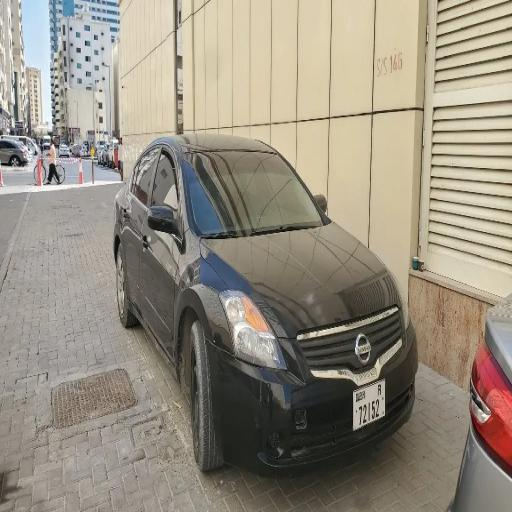license-plates: (353, 379, 385, 431)
